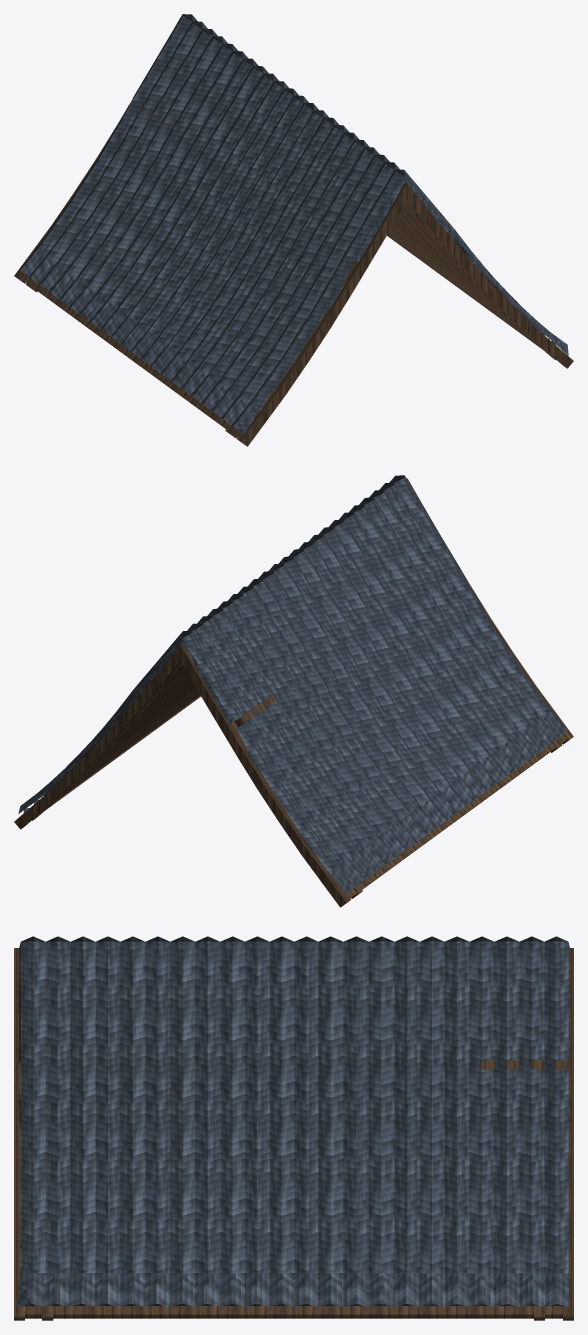
File: Roof_Slate_8x10.gltf
3 views of the same model, one above another, from view 1: azimuth 30°, elevation 25°; view 2: azimuth 150°, elevation 25°; view 3: azimuth 270°, elevation 25° (orthographic). The views are drawn at different scales.
Parts seen in each view (by area): view 1: Roof_Slate_8x10; view 2: Roof_Slate_8x10; view 3: Roof_Slate_8x10.
Part boxes in pixels (bbox=[...]): Roof_Slate_8x10: bbox=[14, 14, 573, 446]; Roof_Slate_8x10: bbox=[14, 475, 573, 907]; Roof_Slate_8x10: bbox=[14, 936, 573, 1320].
Size of the model in its own units: 9.95 by 6.58 by 11.71.
Materials: 2 (2 with a texture image).
